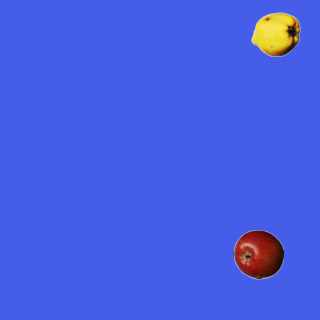Apple Braeburn: (233, 229, 283, 279)
Quince: (250, 9, 300, 59)
